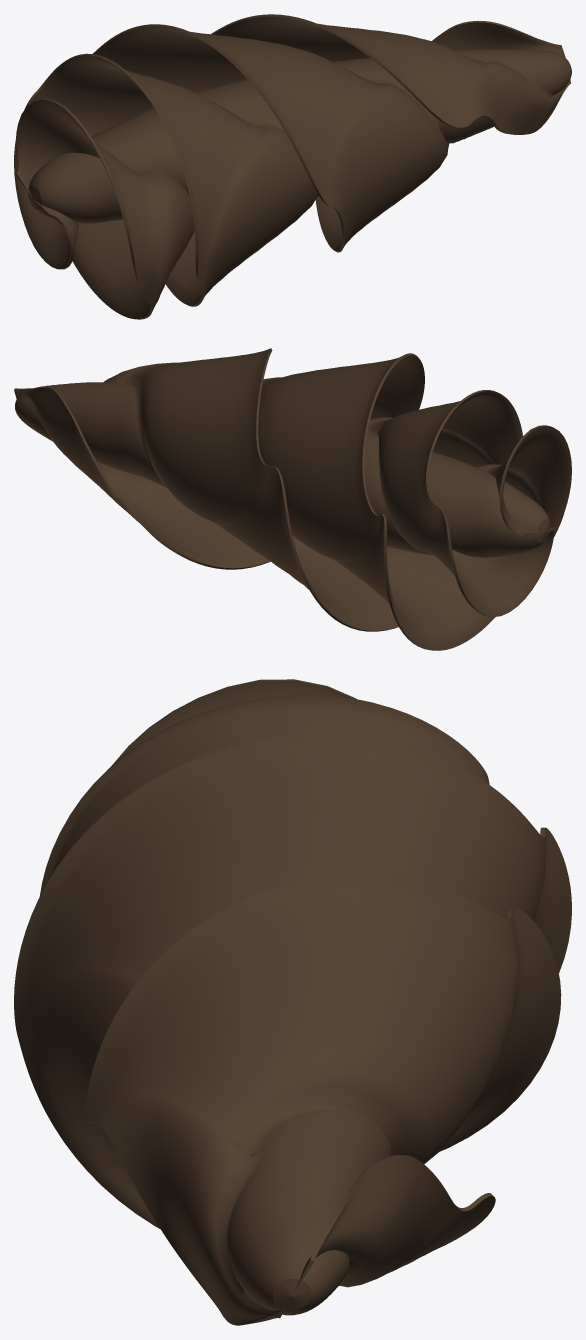
Rendered from NEW683_SharkEggcase_LOD0_v001.glb.
3 renders of one model, top to bottom at view 1: azimuth 30°, elevation 25°; view 2: azimuth 150°, elevation 25°; view 3: azimuth 270°, elevation 25°, orthographic. The views are drawn at different scales.
Visible parts, largest first — view 1: NEW683_Whole_PortJackson_Shark_Eggcase_GRAY; view 2: NEW683_Whole_PortJackson_Shark_Eggcase_GRAY; view 3: NEW683_Whole_PortJackson_Shark_Eggcase_GRAY.
Part boxes in pixels (left/top/right/bottom): NEW683_Whole_PortJackson_Shark_Eggcase_GRAY: left=14, top=14, right=571, bottom=319; NEW683_Whole_PortJackson_Shark_Eggcase_GRAY: left=14, top=348, right=571, bottom=650; NEW683_Whole_PortJackson_Shark_Eggcase_GRAY: left=14, top=679, right=571, bottom=1325.
Size of the model in its own units: 0.15 by 0.068 by 0.075.
